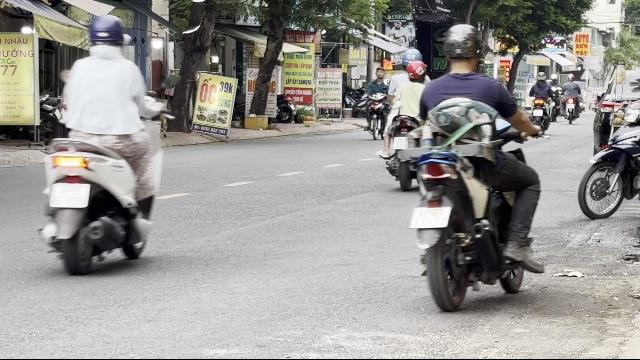helmet: (439, 22, 485, 72), (85, 13, 127, 55), (405, 60, 427, 82), (401, 47, 422, 65)
licenseplate: (410, 205, 448, 229), (50, 184, 88, 206)
motorcyclist: (402, 21, 548, 313), (37, 12, 166, 274), (378, 48, 430, 190)
